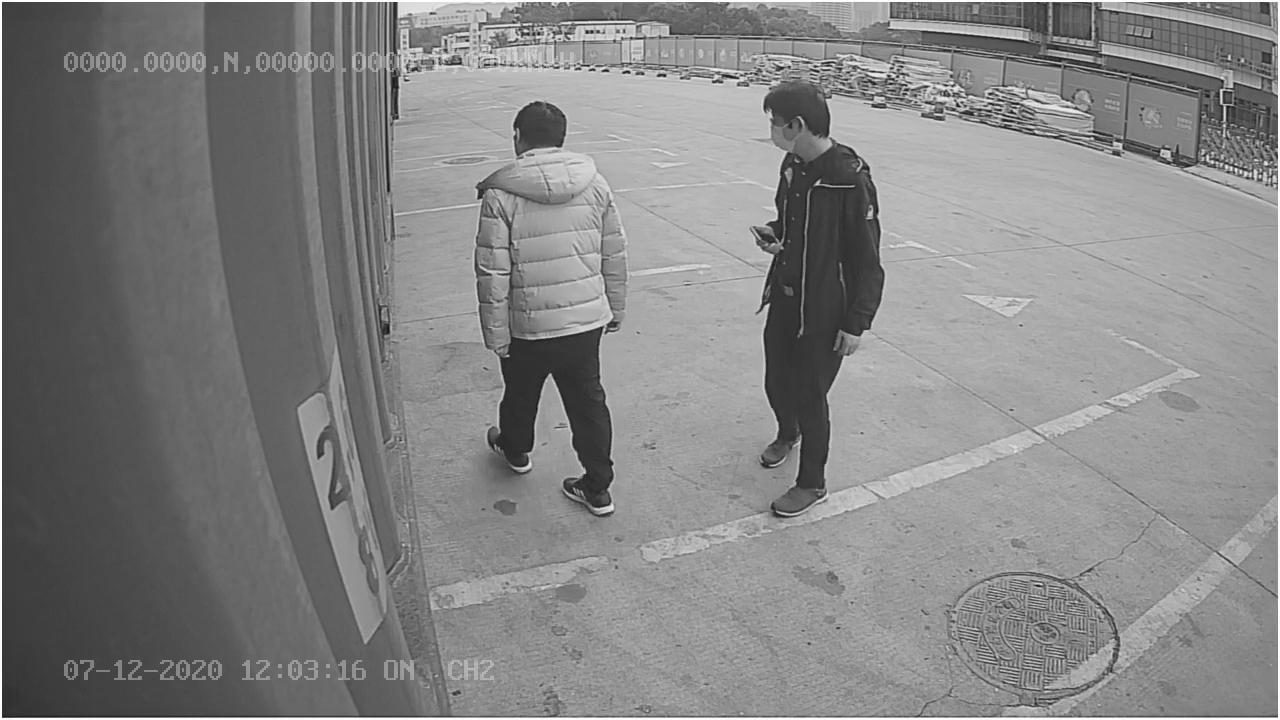person: (462, 95, 633, 516), (730, 79, 883, 517)
